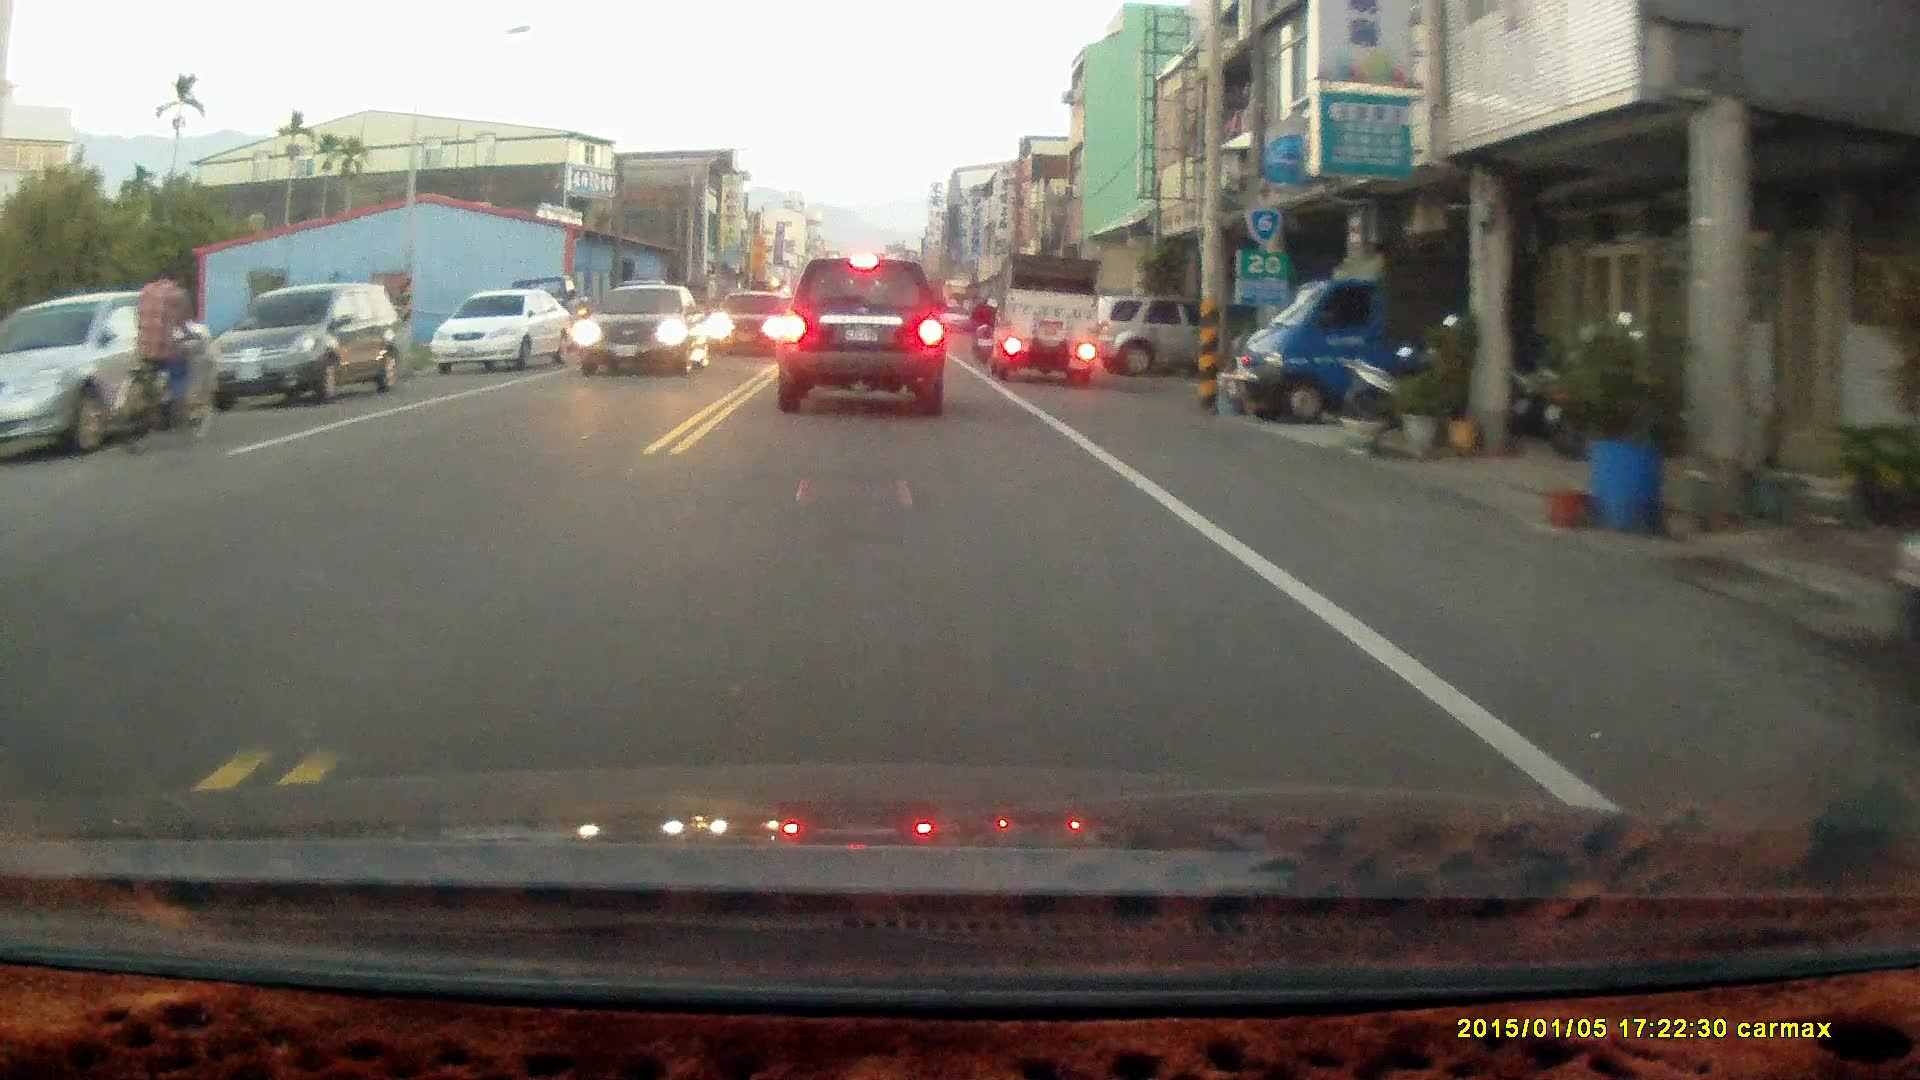rider: (112, 254, 216, 455), (966, 283, 1001, 362)
vehicle: (1243, 224, 1475, 426), (1, 291, 236, 457), (775, 255, 948, 417), (199, 279, 409, 407), (996, 251, 1101, 383), (435, 286, 580, 373), (578, 280, 707, 376), (1096, 289, 1198, 377), (711, 287, 792, 355)
